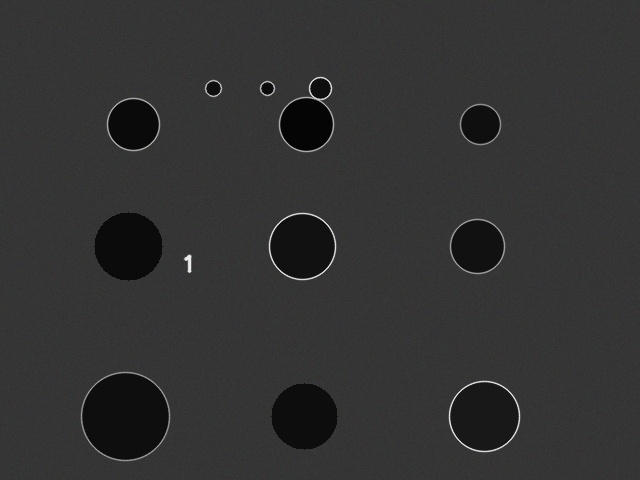hole: (81, 372, 169, 460), (449, 381, 519, 451), (94, 212, 162, 280), (269, 213, 335, 279), (271, 383, 337, 449), (279, 97, 333, 151), (450, 219, 504, 273), (107, 98, 159, 150), (460, 104, 500, 144), (309, 77, 331, 99), (205, 80, 221, 96), (260, 81, 274, 95)
